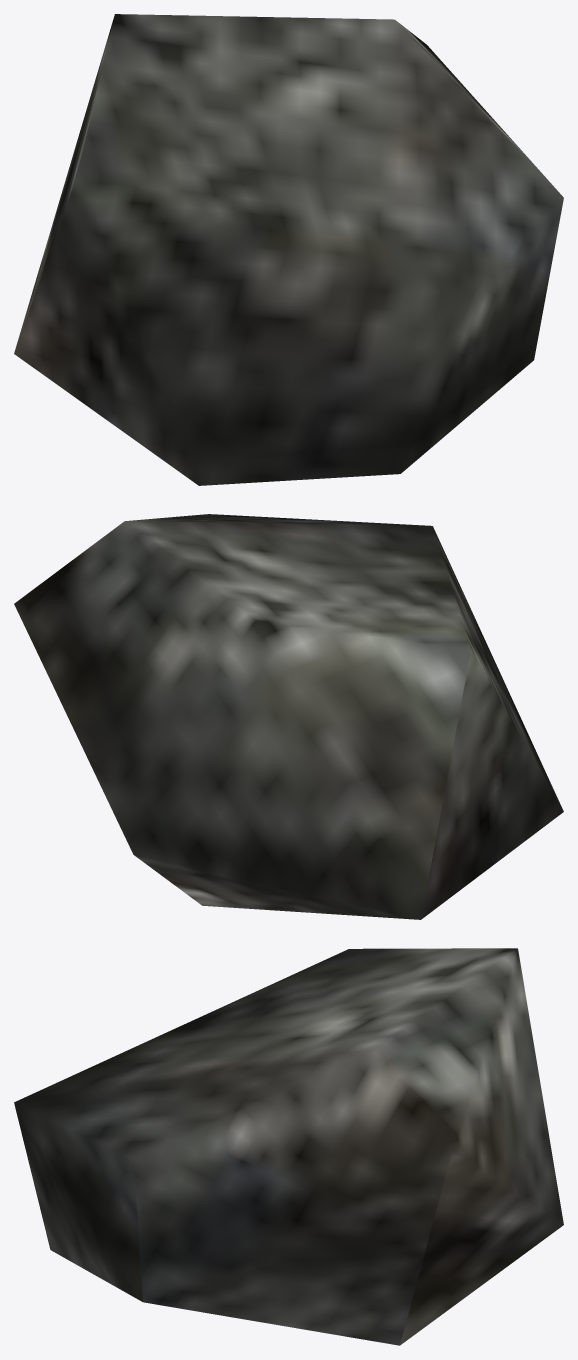
File: Rock2_2.fbx
3 views of the same model, one above another, from view 1: azimuth 30°, elevation 25°; view 2: azimuth 150°, elevation 25°; view 3: azimuth 270°, elevation 25° (orthographic). The views are drawn at different scales.
Parts seen in each view (by area): view 1: Rock2_LOD_2; view 2: Rock2_LOD_2; view 3: Rock2_LOD_2.
Part boxes in pixels (x1=…): Rock2_LOD_2: x1=14, y1=14, x2=563, y2=485; Rock2_LOD_2: x1=14, y1=514, x2=563, y2=919; Rock2_LOD_2: x1=14, y1=948, x2=563, y2=1345.
Size of the model in its own units: 0.782 by 0.6491 by 0.9458.
